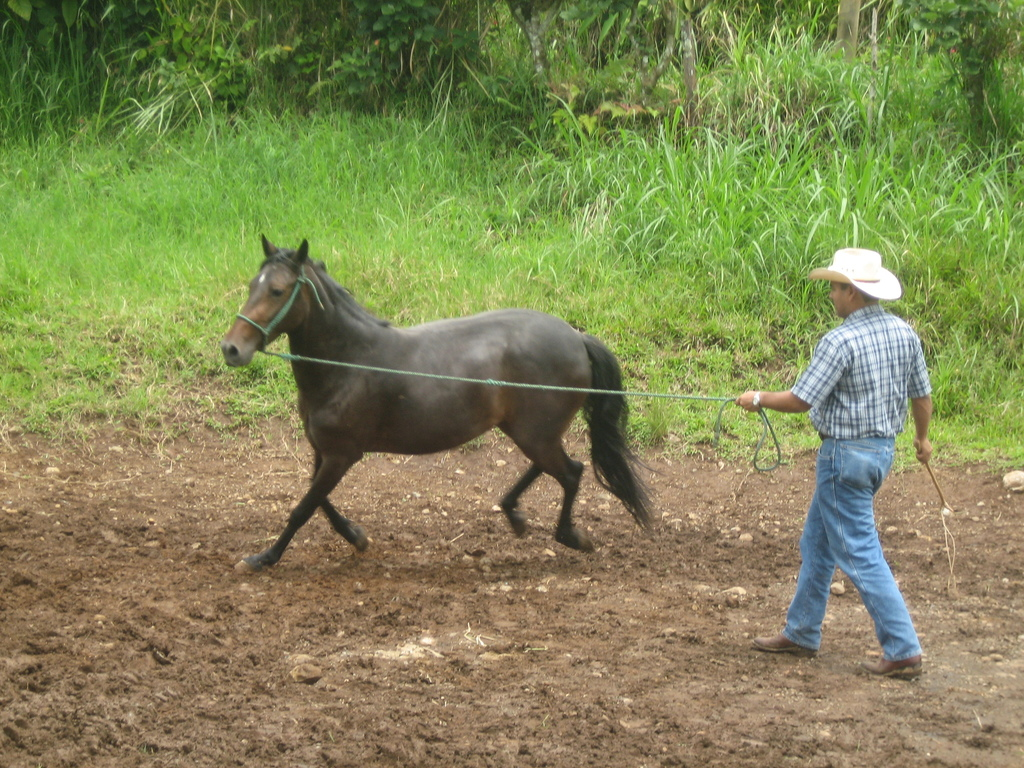horse: (221, 234, 659, 568)
